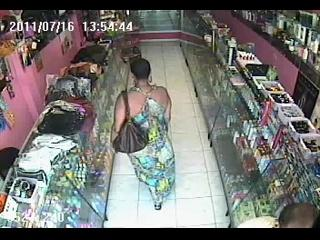Normal: (111, 58, 176, 211), (112, 90, 148, 154)
